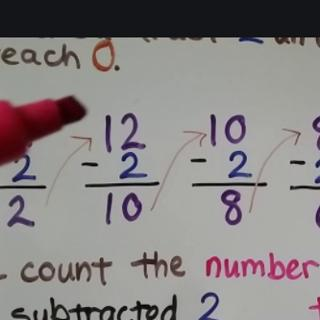.: (109, 63, 122, 72)
0: (92, 38, 115, 74), (224, 114, 247, 145), (121, 192, 143, 221), (38, 261, 56, 282)
1: (102, 110, 116, 155), (104, 190, 115, 226), (208, 112, 217, 144)
2: (5, 194, 36, 229), (121, 112, 144, 151), (119, 152, 149, 180), (229, 150, 252, 179)
8: (221, 189, 243, 225)
